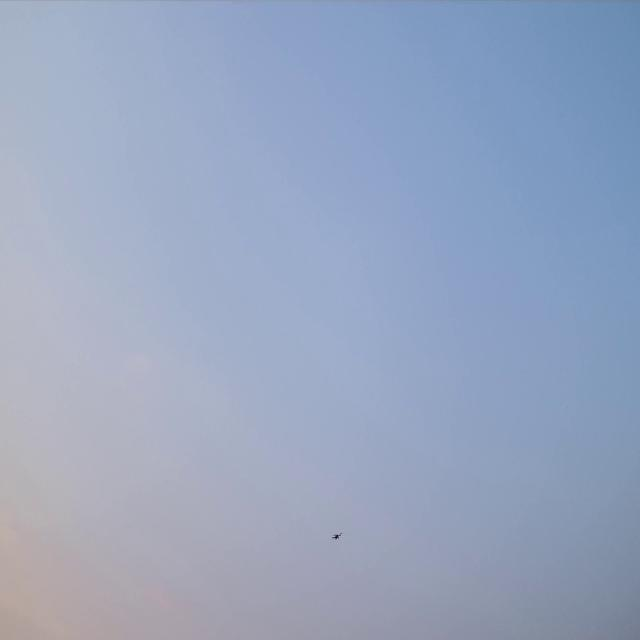UAV: (331, 531, 343, 540)
